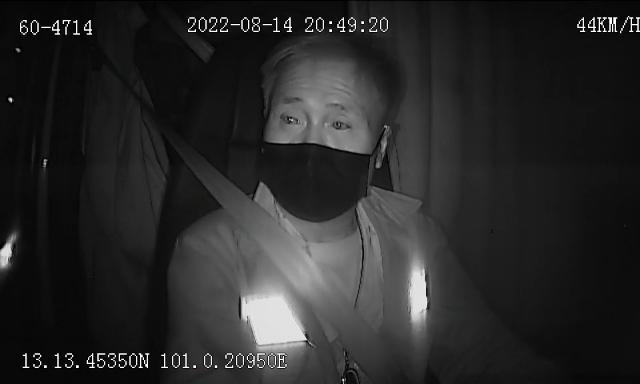SafeDriving: (322, 109, 359, 135), (274, 104, 308, 130)
Seatbelt: (146, 104, 384, 384)
